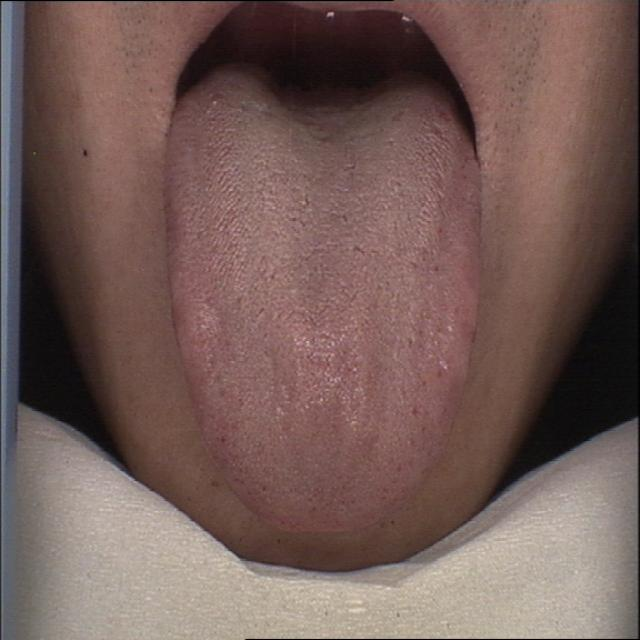tongue: (158, 69, 487, 544)
